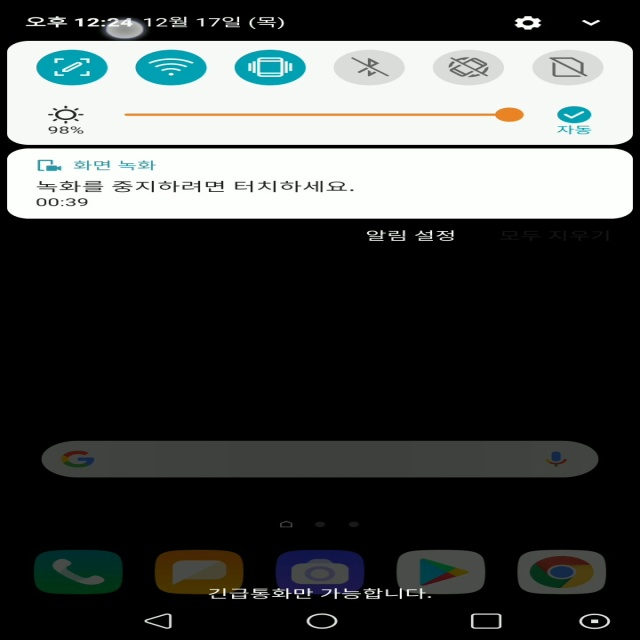Cursor: (104, 19, 148, 41)
